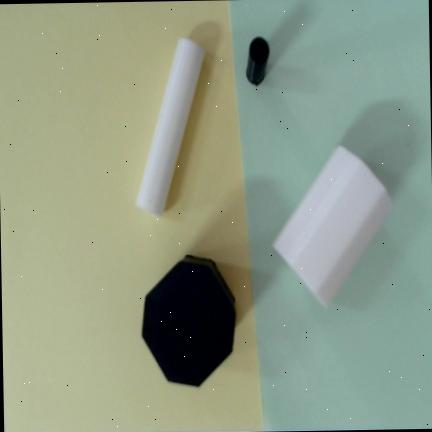Cilindro: (136, 37, 204, 214), (245, 36, 268, 85)
Prisma_hexagonal: (273, 145, 391, 305), (141, 254, 234, 386)
